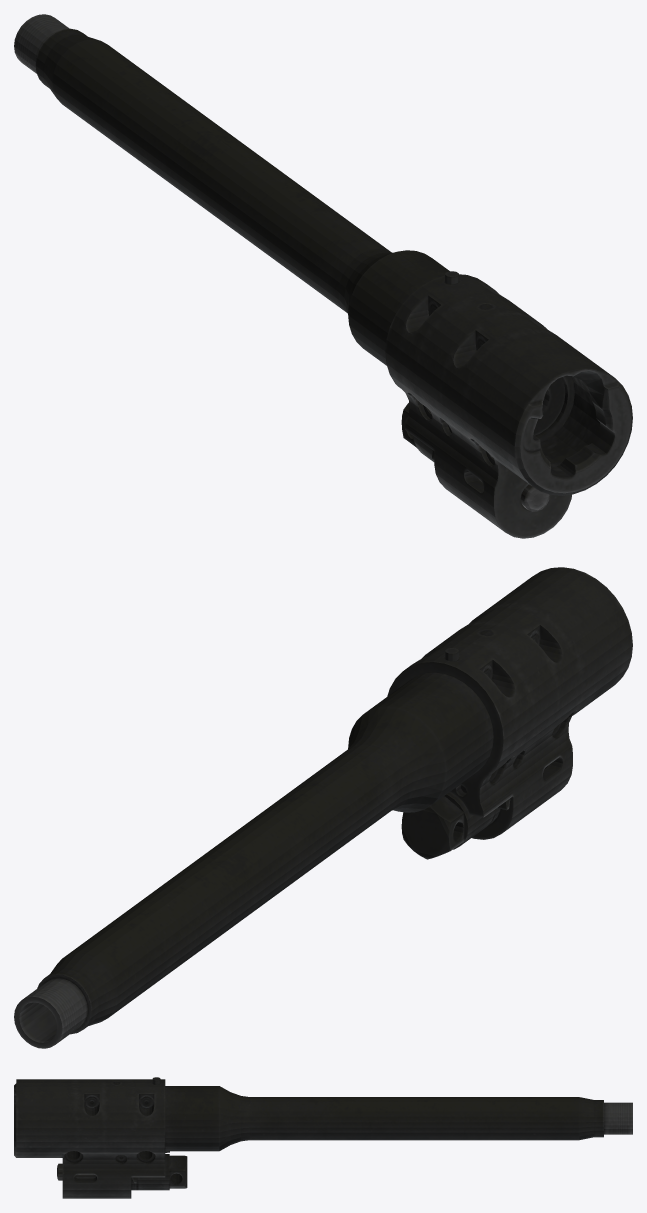
3 renders of one model, top to bottom at view 1: azimuth 30°, elevation 25°; view 2: azimuth 150°, elevation 25°; view 3: azimuth 270°, elevation 25°, orthographic. The views are drawn at different scales.
Visible parts, largest first — view 1: TW_5894a2c386f77427140b8342_PZ_Import; view 2: TW_5894a2c386f77427140b8342_PZ_Import; view 3: TW_5894a2c386f77427140b8342_PZ_Import.
Boxes of the visible parts, x1,y1,x2,y2 form: TW_5894a2c386f77427140b8342_PZ_Import: [14, 14, 632, 538]; TW_5894a2c386f77427140b8342_PZ_Import: [14, 567, 632, 1048]; TW_5894a2c386f77427140b8342_PZ_Import: [14, 1077, 632, 1198].
Size of the model in its own units: 0.016 by 0.1256 by 0.0263.
Materials: 1 (1 with a texture image).
